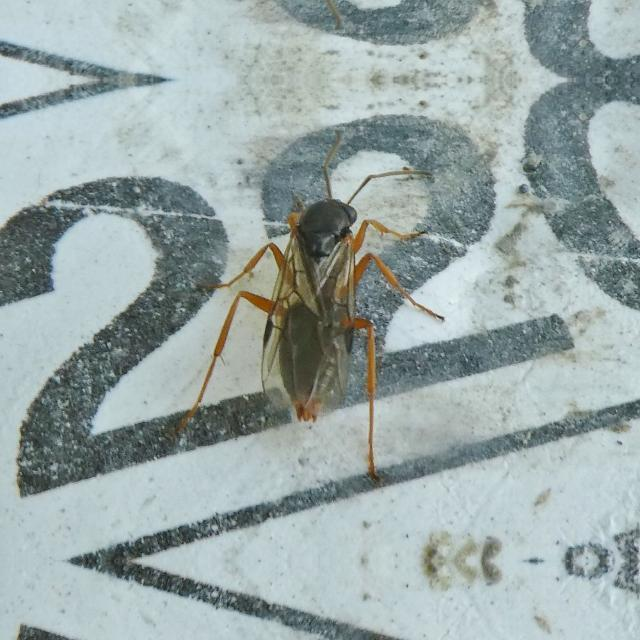Formica: (227, 178, 413, 432)
